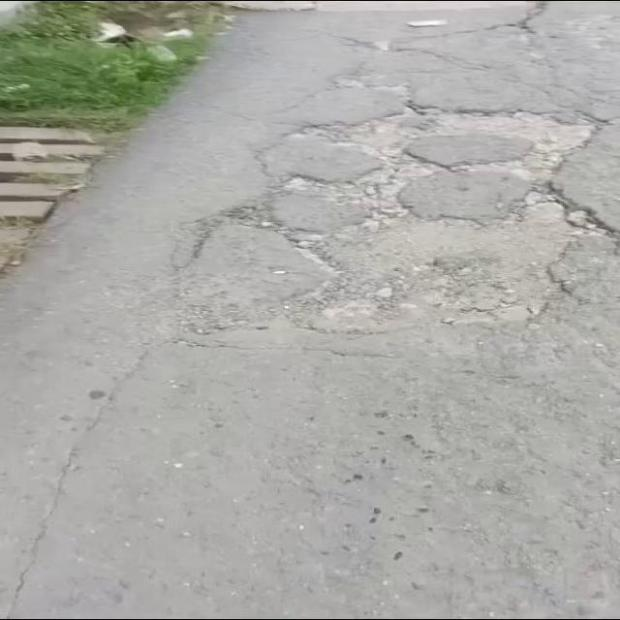lubang: (178, 108, 609, 350)
